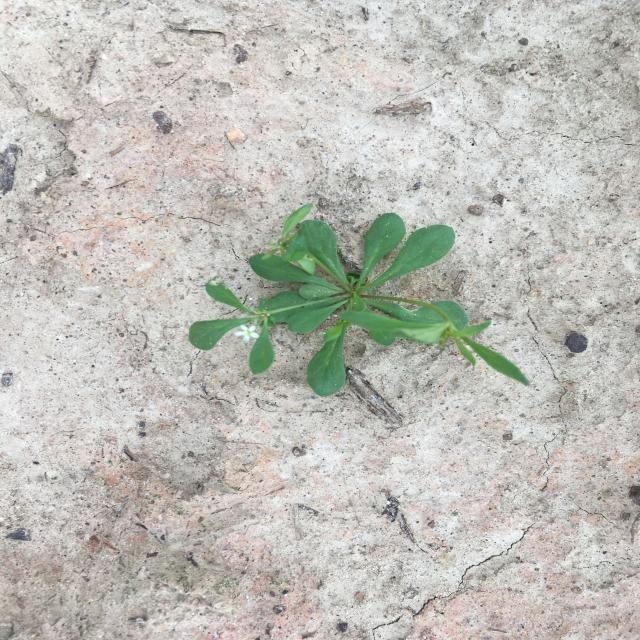Carpetweed: (188, 202, 530, 398)
